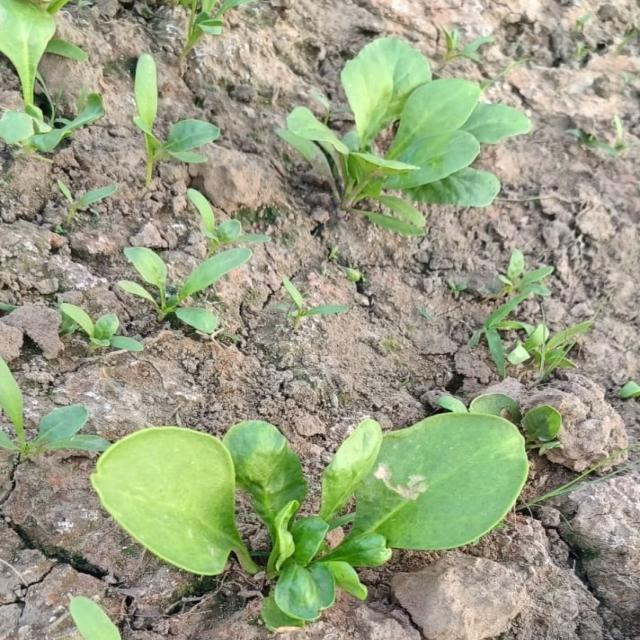plant: (92, 395, 556, 628), (283, 39, 529, 230)
